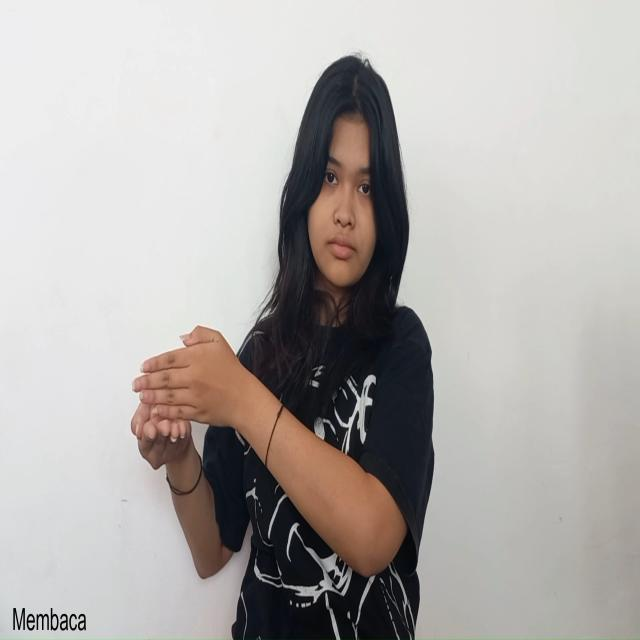Membaca -BISINDO-: (128, 322, 252, 472)
